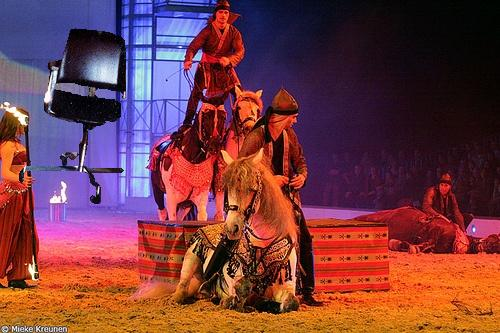tampered: (20, 29, 126, 204)
